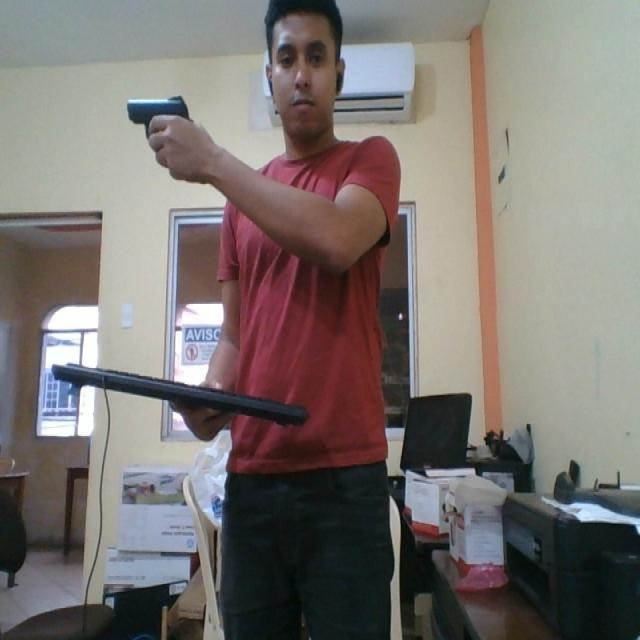weapon: (126, 92, 196, 162)
